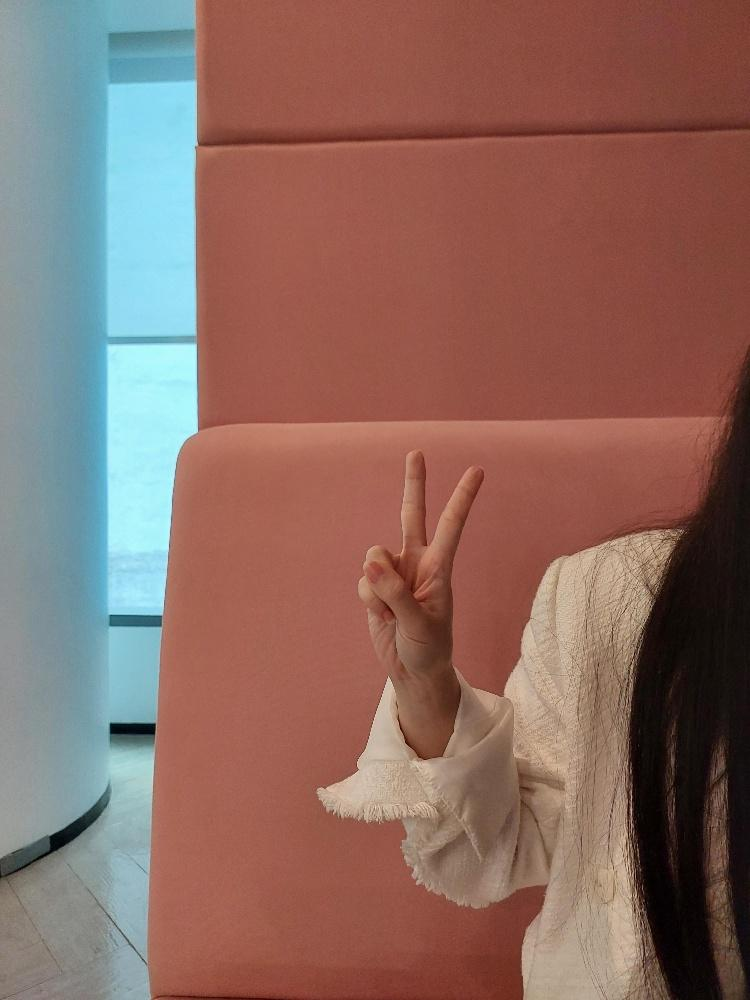v: (356, 451, 482, 667)
